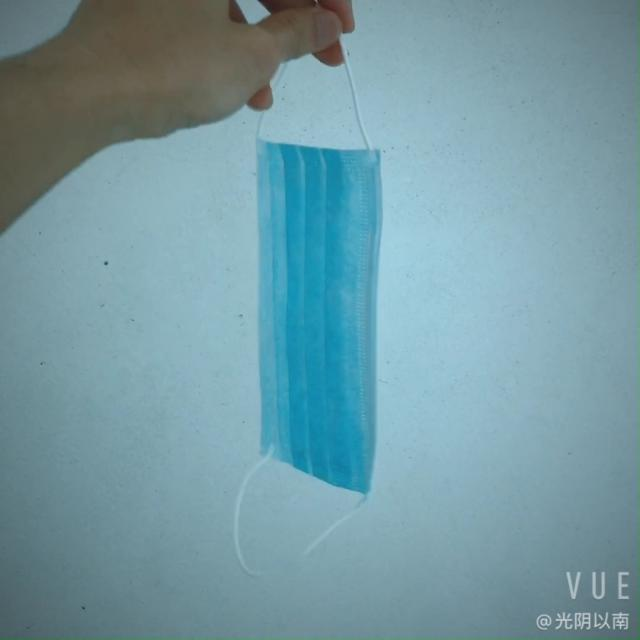non-organic waste: (242, 126, 394, 476)
